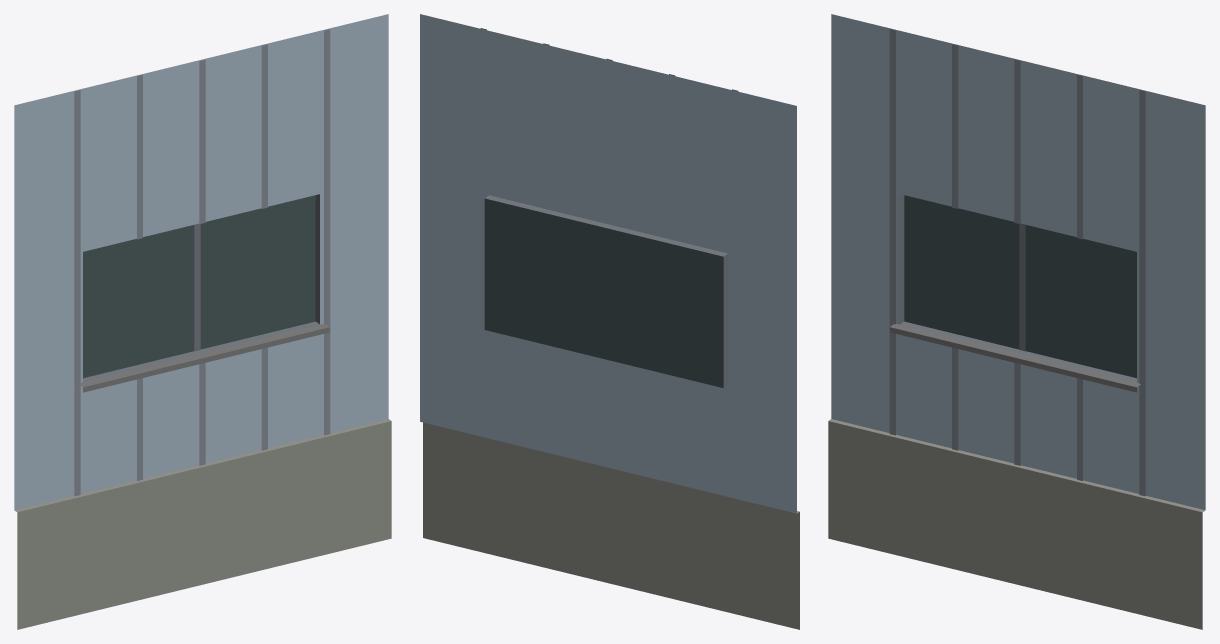
3 renders of one model, left to right at view 1: azimuth 30°, elevation 25°; view 2: azimuth 150°, elevation 25°; view 3: azimuth 330°, elevation 25°, orthographic.
Visible parts, largest first — view 1: a2004/200/base-w1; view 2: a2004/200/base-w1; view 3: a2004/200/base-w1.
Part boxes in pixels (x1,y1,x2,y2): a2004/200/base-w1: [14, 14, 391, 629]; a2004/200/base-w1: [420, 14, 799, 629]; a2004/200/base-w1: [828, 14, 1205, 629].
Size of the model in its own units: 3 by 4 by 0.13.
